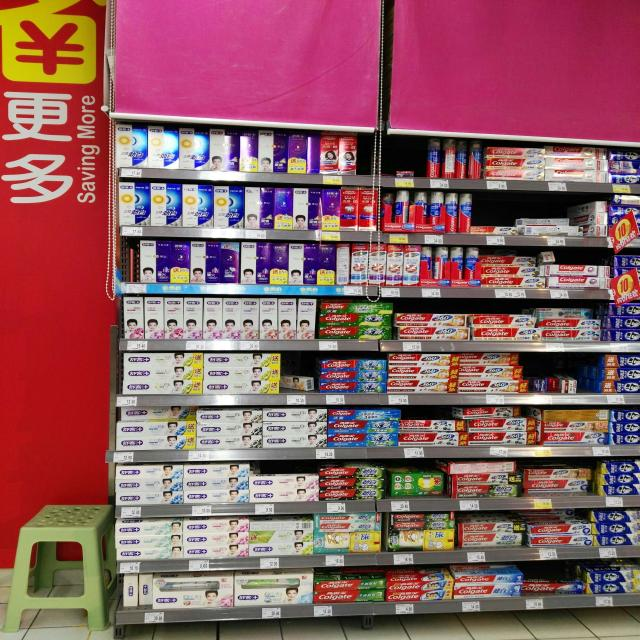empty: (357, 138, 431, 177), (571, 355, 603, 397)
